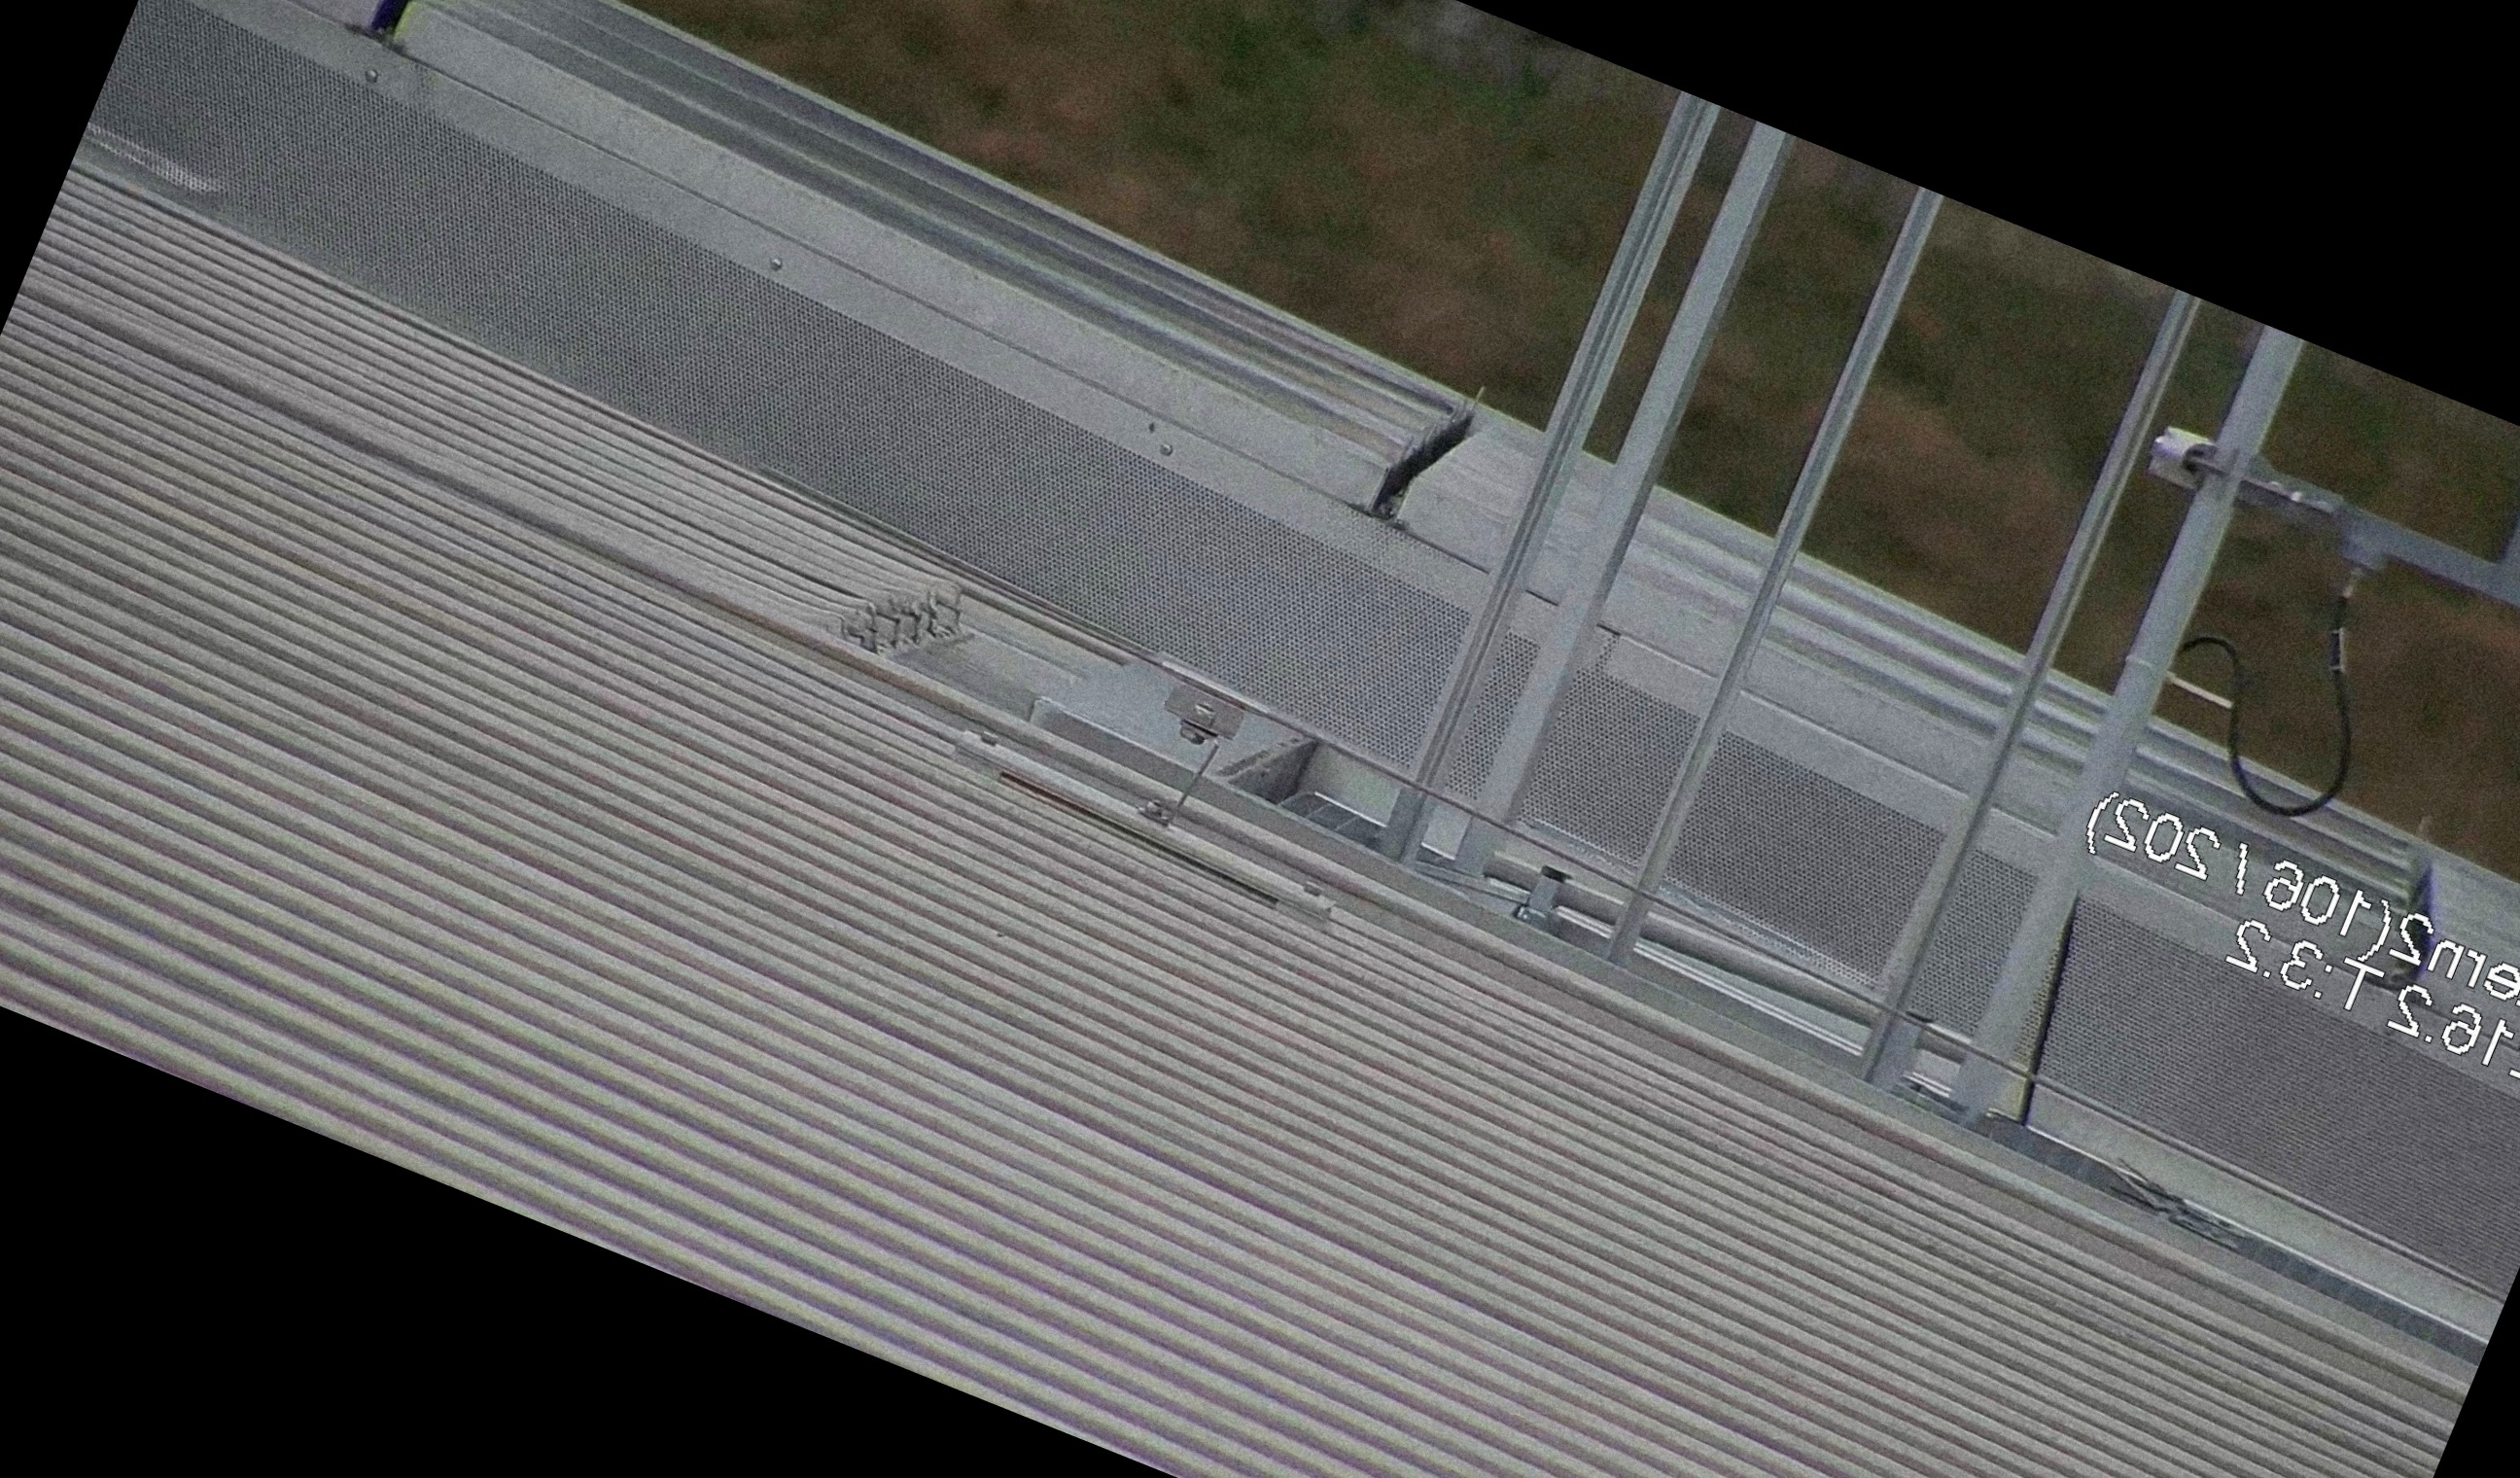Other: (1344, 343, 1530, 560)
